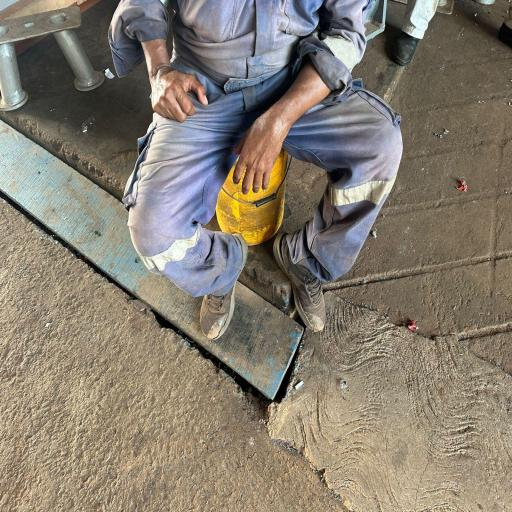safety_shoe: (267, 232, 342, 342), (198, 218, 250, 354)
